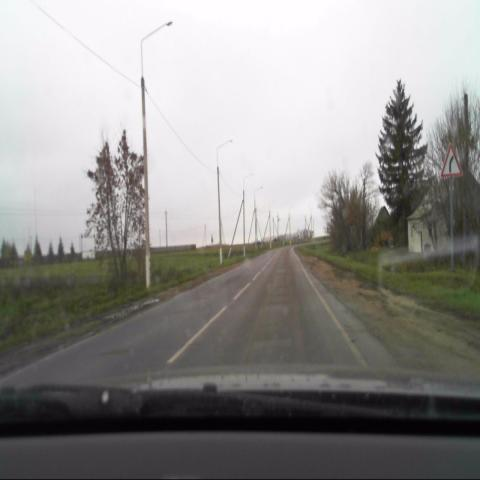1_11: (440, 143, 462, 177)
